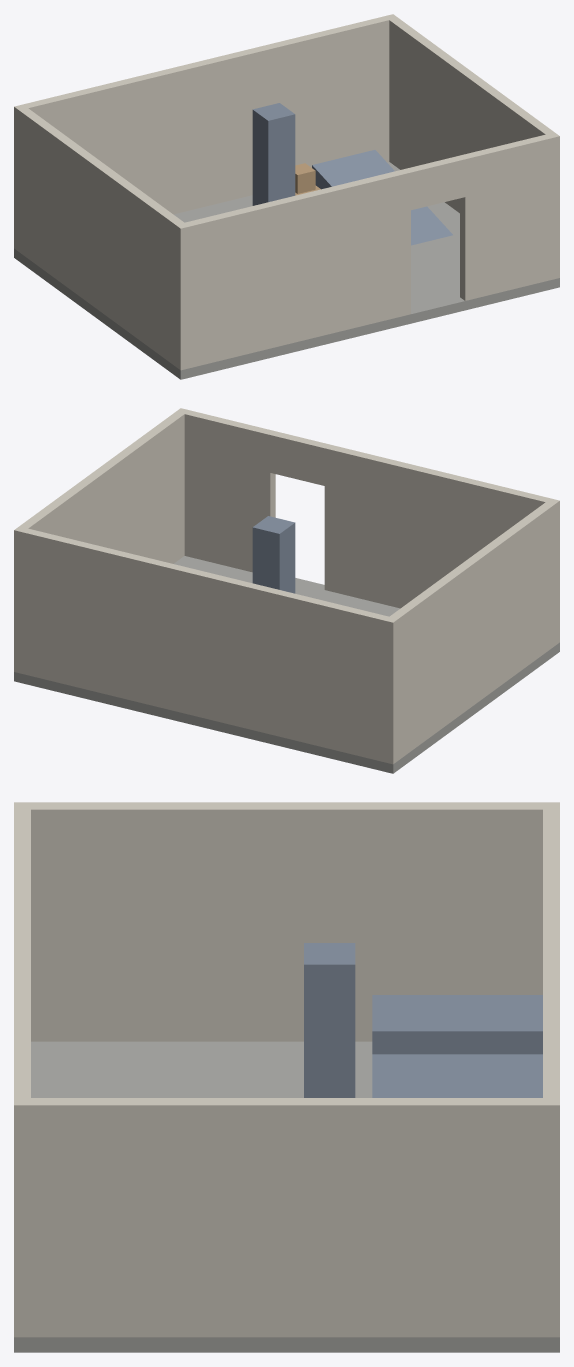
Rendered from blockout_room.glb.
The picture shows the model from 3 angles, top to bottom: view 1: azimuth 30°, elevation 25°; view 2: azimuth 150°, elevation 25°; view 3: azimuth 270°, elevation 25°; orthographic projection. The views are drawn at different scales.
Parts seen in each view (by area): view 1: WallNorth, WallSouthA, WallWest, WallSouthB, WallEast, Floor, Pillar, Ramp, WallSouthLintel, CrateB; view 2: WallNorth, WallWest, WallSouthA, WallEast, WallSouthB, Floor, Pillar, WallSouthLintel; view 3: WallEast, WallWest, Floor, Platform, WallNorth, Pillar, Step, WallSouthB, WallSouthA, WallSouthLintel.
Part boxes in pixels (x1,y1,x2,y2): WallNorth: (14, 14, 397, 251); WallSouthA: (175, 168, 410, 370); WallWest: (19, 108, 183, 366); WallSouthB: (460, 132, 559, 300); WallEast: (389, 18, 554, 213); Floor: (14, 162, 559, 379); Pillar: (252, 103, 295, 205); Ramp: (312, 150, 452, 245); WallSouthLintel: (406, 155, 465, 210); CrateB: (295, 163, 315, 193); WallNorth: (14, 526, 398, 764); WallWest: (390, 502, 554, 760); WallSouthA: (324, 444, 559, 645); WallEast: (19, 412, 184, 563); WallSouthB: (176, 408, 275, 572); Floor: (14, 556, 559, 773); Pillar: (252, 516, 295, 593); WallSouthLintel: (270, 431, 329, 485); WallEast: (31, 1098, 542, 1337); WallWest: (31, 802, 542, 1041); Floor: (14, 1041, 559, 1352); Platform: (372, 995, 542, 1054); WallNorth: (543, 802, 559, 1337); Pillar: (304, 943, 355, 1097); Step: (372, 1054, 542, 1097); WallSouthB: (14, 1029, 30, 1337); WallSouthA: (14, 802, 30, 986); WallSouthLintel: (14, 986, 30, 1029).
Size of what is drawn, in the model's own units: 8.4 by 3.2 by 6.4.
